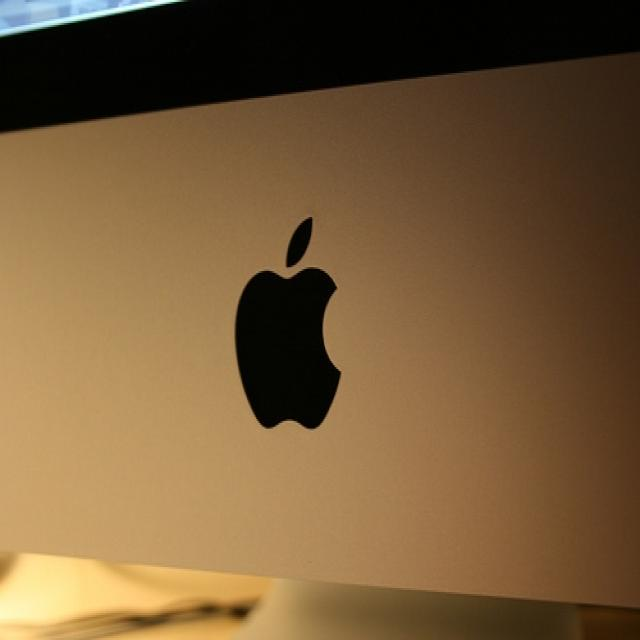apple: (221, 205, 348, 437)
